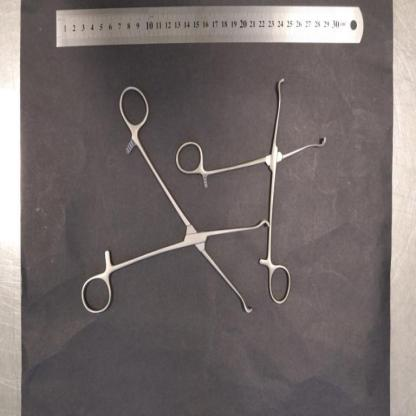8 Babcock Tissue Forceps: (82, 88, 270, 314)
Babcock Tissue Forceps: (176, 77, 326, 306)
